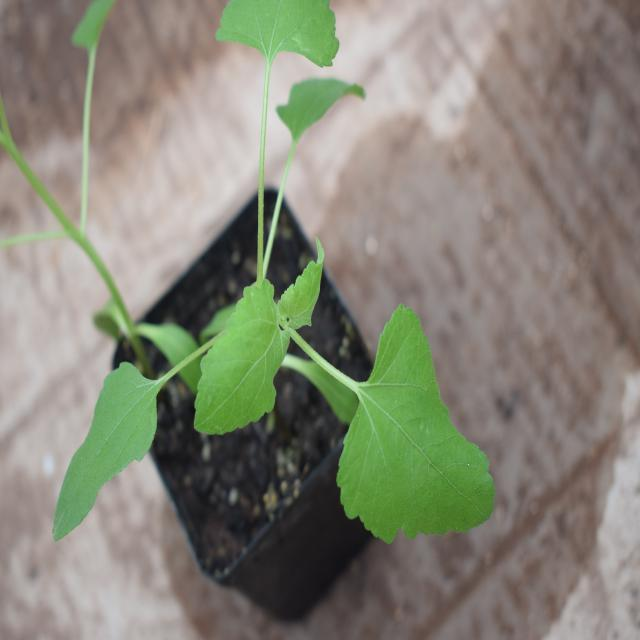cocklebur: (64, 218, 508, 530)
